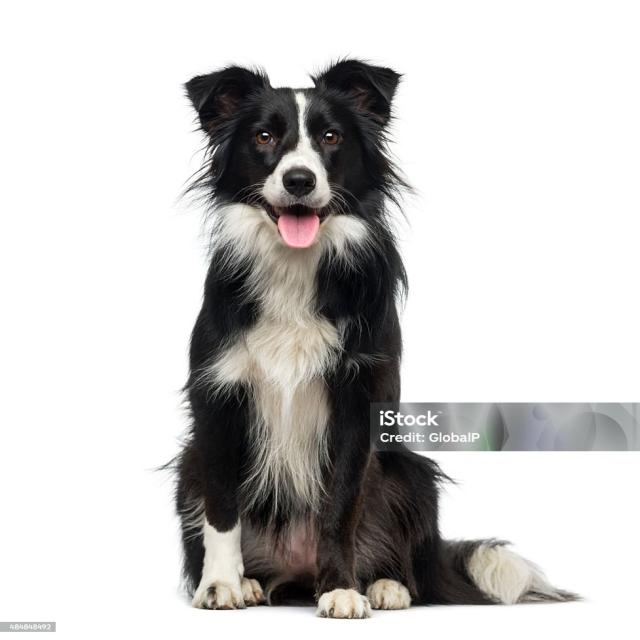BORDER_COLLIE: (154, 48, 591, 625)
